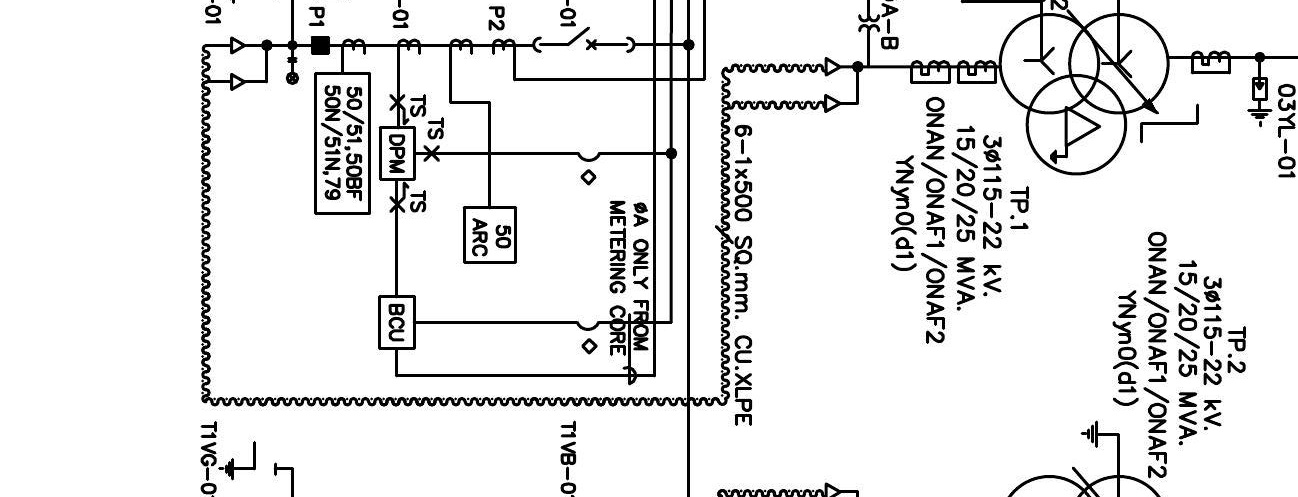11522_tx_ynyn0d1: (997, 12, 1171, 177)
115_la: (1247, 76, 1273, 128)
22_breaker: (532, 26, 636, 54)
22_gs: (218, 440, 277, 480)
22_ll: (285, 56, 300, 86)
BCU: (377, 294, 417, 351)
DPM: (378, 125, 417, 180)
terminator_double: (229, 35, 269, 92), (824, 56, 860, 114)
